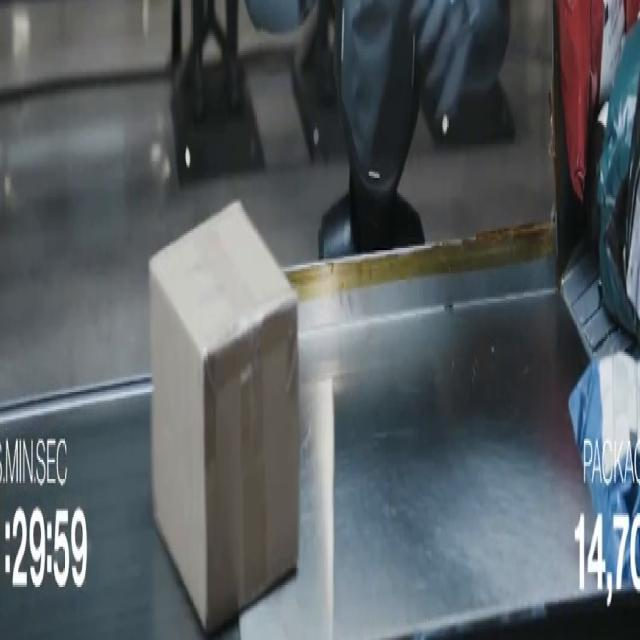package: (150, 204, 299, 631), (569, 352, 639, 591), (556, 0, 639, 201), (598, 26, 639, 334), (616, 87, 639, 339), (585, 102, 608, 250)
